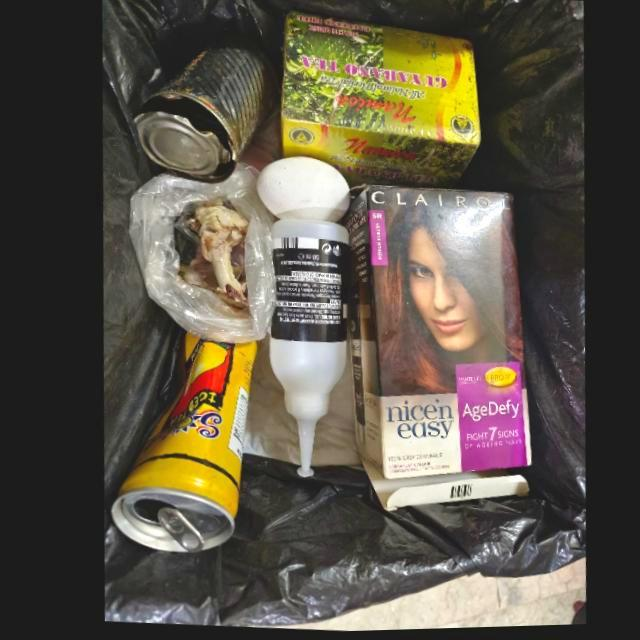aluminum: (102, 331, 258, 554), (133, 51, 278, 183)
left_over_food: (175, 203, 244, 301)
plastic_bottle: (264, 221, 344, 480)
